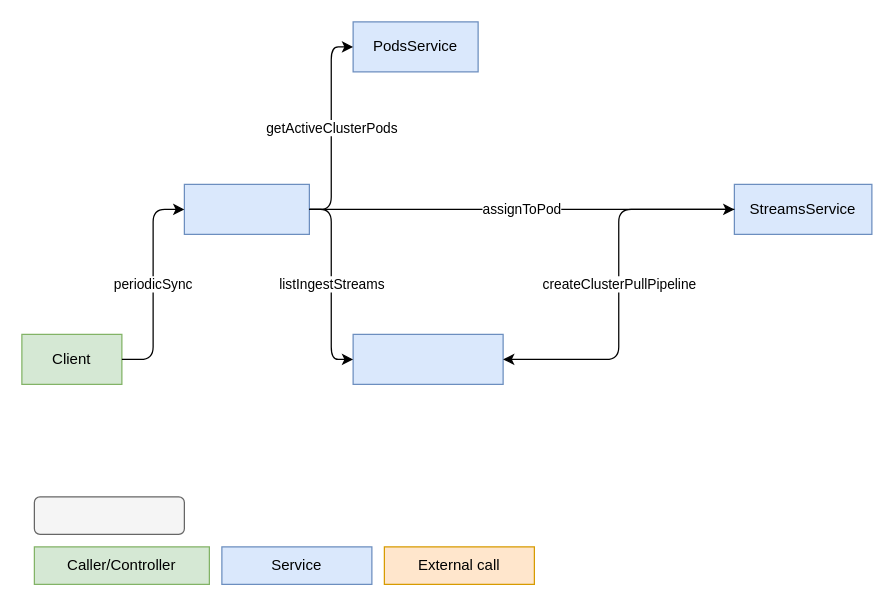
Some shapes in this 894 by 606 pixel diagram are drawn without their labels. Each missing label, with the box of its shape:
Legend: (33, 496, 184, 534)
MediaMtxService: (352, 333, 503, 384)
SyncService: (183, 183, 309, 234)
